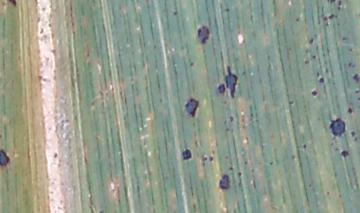tarspot: (224, 65, 237, 97), (329, 118, 345, 137), (186, 98, 200, 116), (197, 25, 210, 43), (218, 174, 230, 189), (1, 150, 9, 167), (182, 149, 192, 160), (217, 84, 225, 94), (352, 74, 360, 84), (322, 14, 337, 19), (340, 149, 349, 157), (7, 1, 17, 8), (303, 58, 312, 65), (224, 6, 232, 13), (294, 16, 302, 23), (208, 154, 214, 163), (347, 62, 356, 68), (341, 35, 350, 41), (318, 77, 325, 84), (172, 10, 179, 17), (229, 114, 235, 122), (337, 1, 341, 12), (347, 107, 353, 114), (311, 89, 317, 96), (309, 37, 315, 44), (302, 143, 308, 150), (52, 152, 59, 158), (287, 99, 293, 106), (189, 62, 196, 68), (311, 54, 317, 60), (354, 88, 360, 94), (351, 130, 356, 137), (204, 156, 209, 162), (238, 171, 243, 177), (328, 1, 337, 4), (99, 208, 104, 213), (269, 161, 275, 165), (230, 166, 234, 171)
